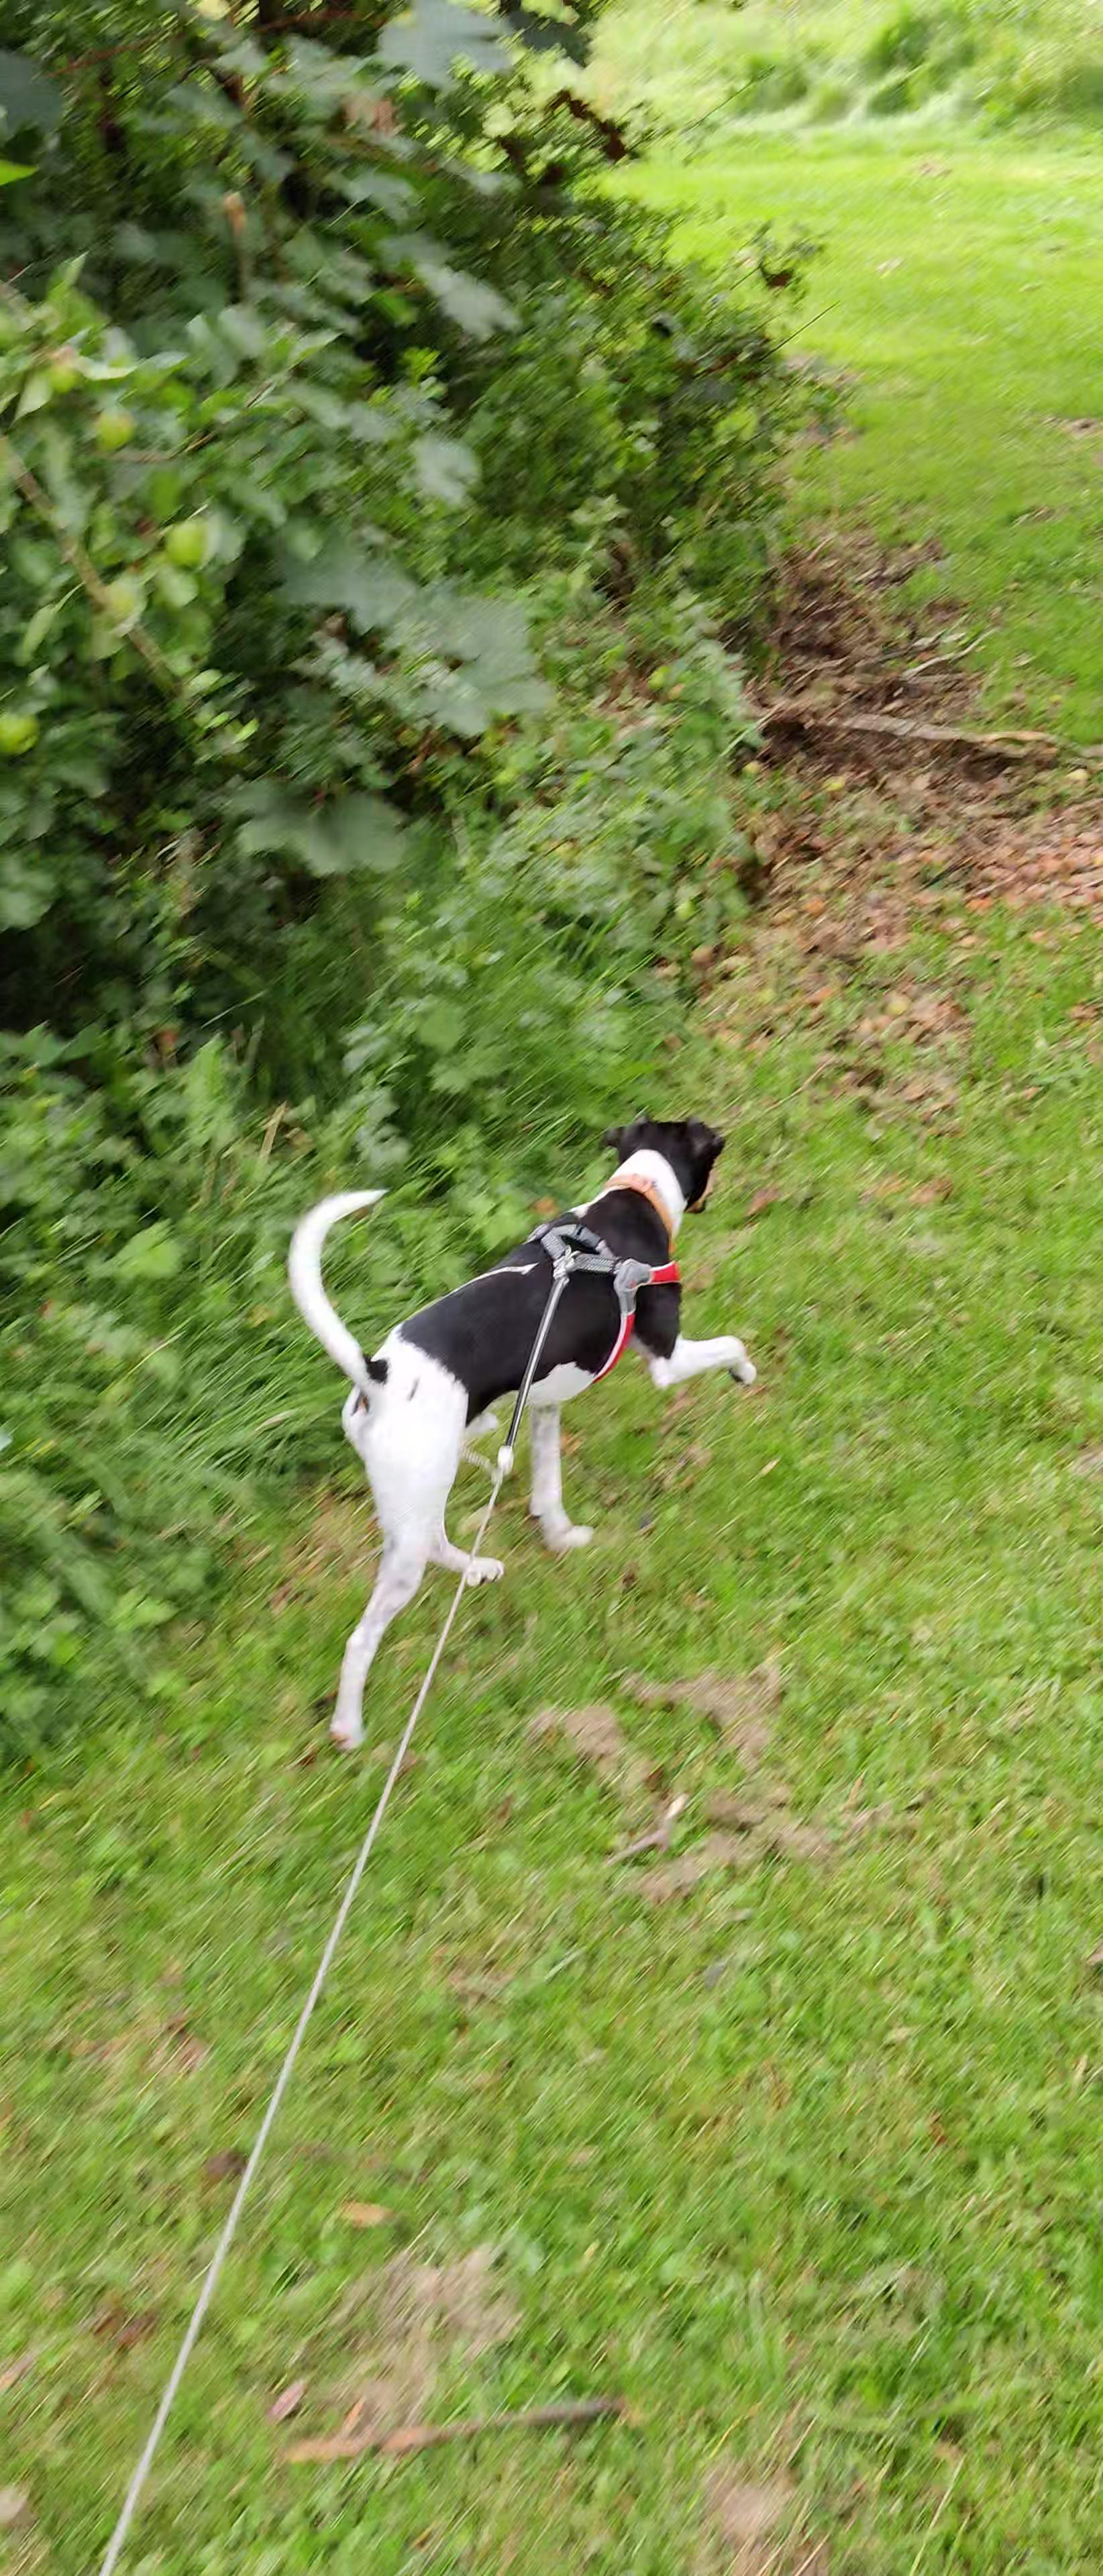Dog: (255, 1111, 776, 1759)
